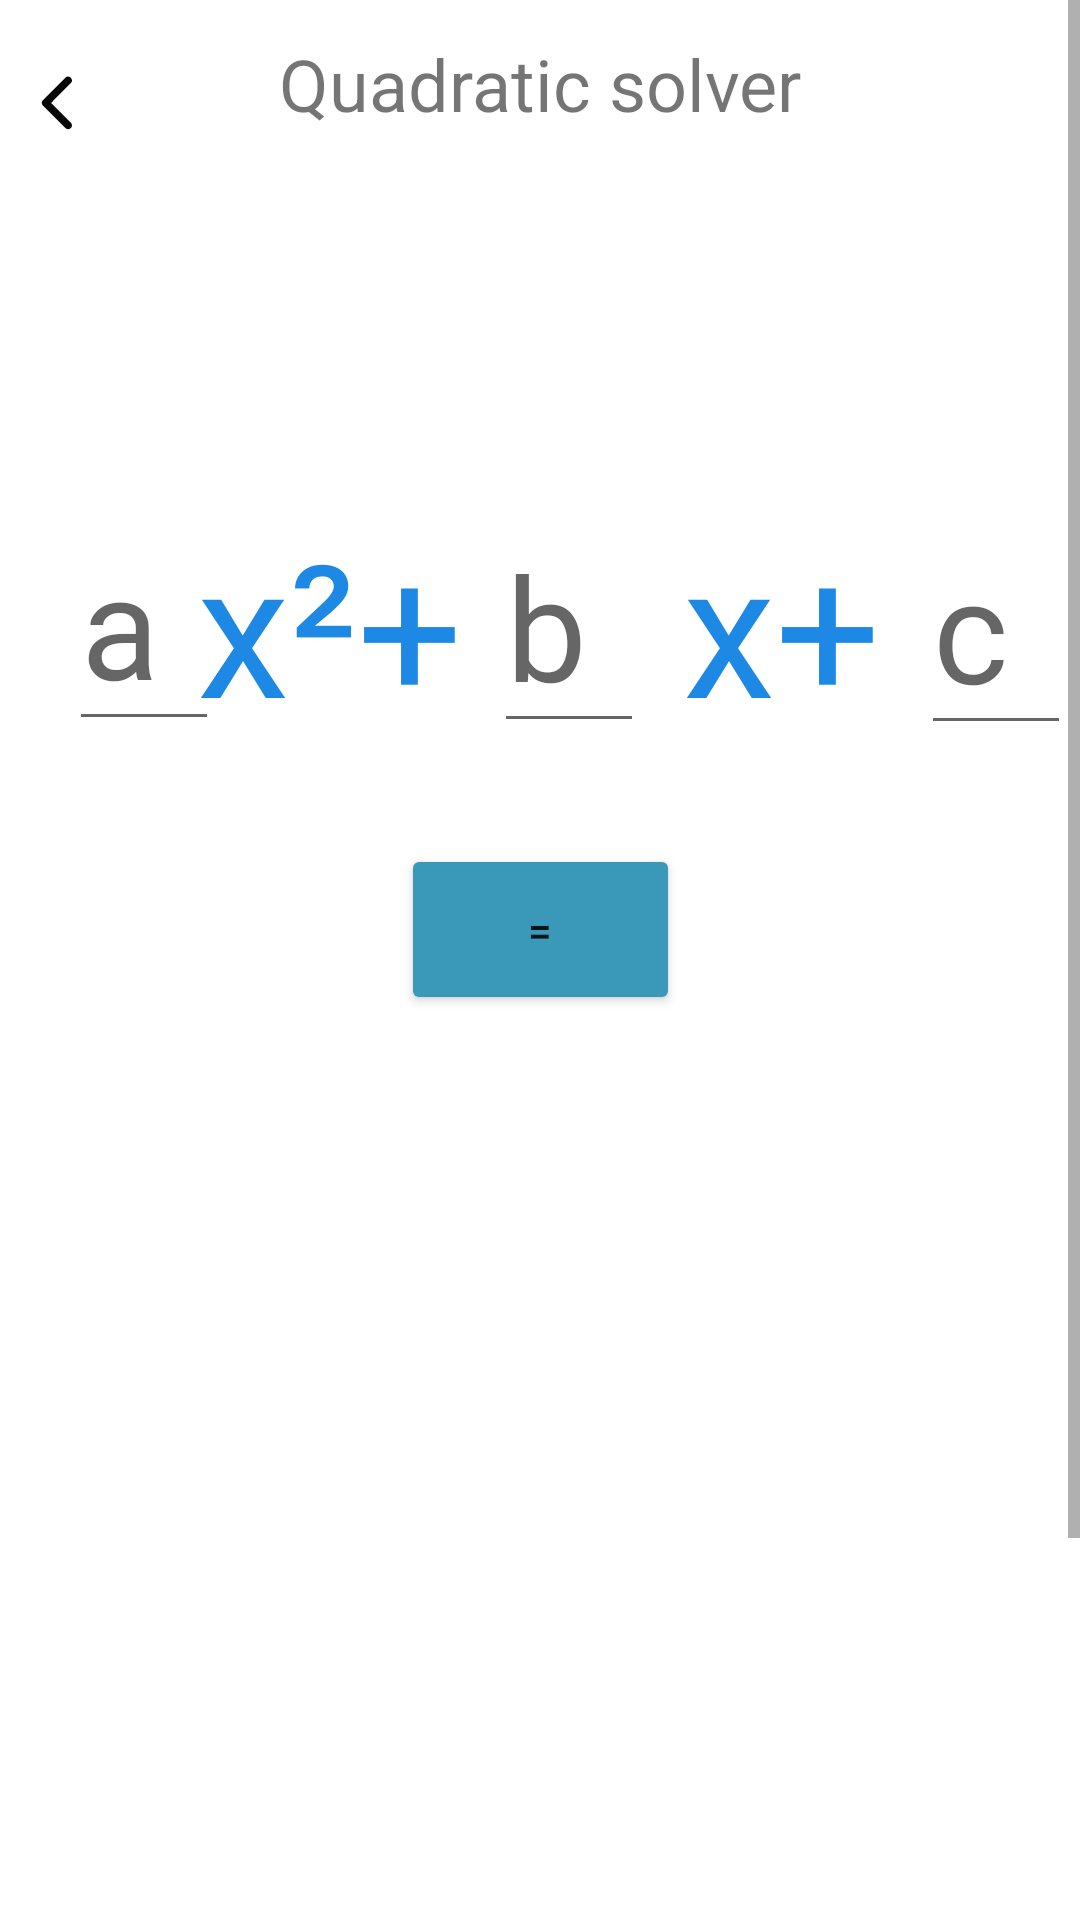

Screen size 1080 × 1920. Icon name, then its center in pixels as [x,y]:
back: [56,103]
